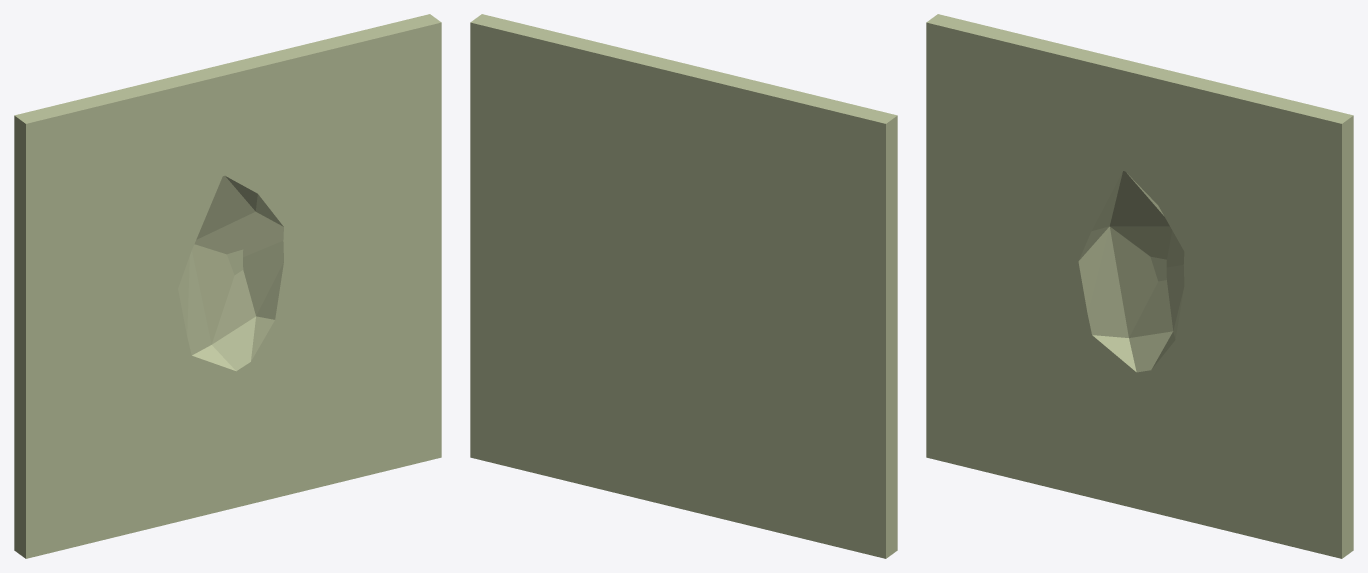
Rendered from Safe Lid.fbx.
3 views of the same model, side by side, from view 1: azimuth 30°, elevation 25°; view 2: azimuth 150°, elevation 25°; view 3: azimuth 330°, elevation 25° (orthographic).
Parts seen in each view (by area): view 1: Shelf Lid; view 2: Shelf Lid; view 3: Shelf Lid.
Part boxes in pixels (<box>): Shelf Lid: <box>14,14,441,558</box>; Shelf Lid: <box>470,14,897,558</box>; Shelf Lid: <box>926,14,1353,558</box>.
Size of the model in its own units: 20 by 20 by 0.9708.
